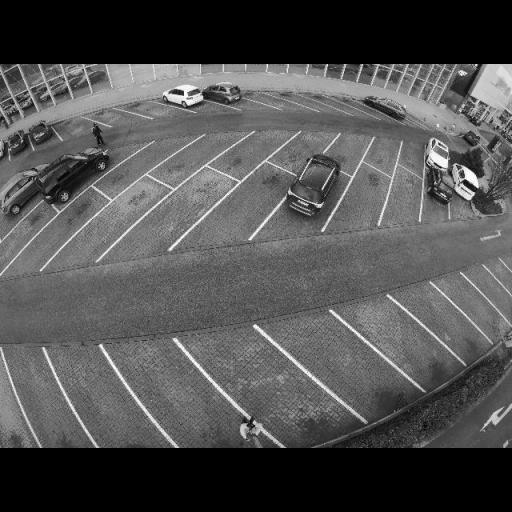busy: (35, 147, 104, 202), (281, 154, 341, 216), (0, 170, 40, 220), (422, 134, 454, 192), (163, 84, 207, 108), (450, 164, 478, 200), (206, 82, 245, 104), (369, 96, 407, 118), (29, 122, 54, 145), (6, 132, 28, 154)
free: (232, 364, 301, 407), (144, 370, 203, 416), (316, 343, 370, 385), (76, 380, 128, 422), (25, 376, 66, 418), (383, 323, 425, 357), (34, 221, 76, 246), (228, 192, 270, 216), (348, 184, 382, 212), (285, 134, 323, 159), (428, 307, 463, 333), (332, 136, 366, 162), (172, 189, 206, 213), (388, 191, 418, 217), (106, 200, 140, 222), (119, 157, 150, 176), (176, 150, 205, 170), (248, 92, 280, 110), (480, 278, 506, 300), (400, 141, 426, 163), (233, 145, 266, 161), (461, 294, 486, 314), (56, 120, 86, 136), (91, 68, 111, 84), (371, 148, 395, 161), (144, 105, 168, 116), (105, 113, 127, 124), (328, 99, 348, 111), (112, 69, 130, 81), (136, 65, 154, 77), (292, 94, 310, 106), (156, 66, 174, 75)
